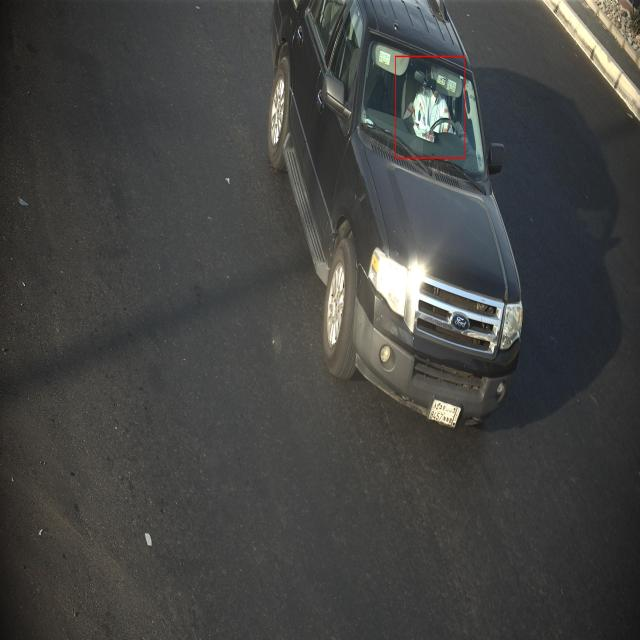windshield: (355, 28, 492, 188)
